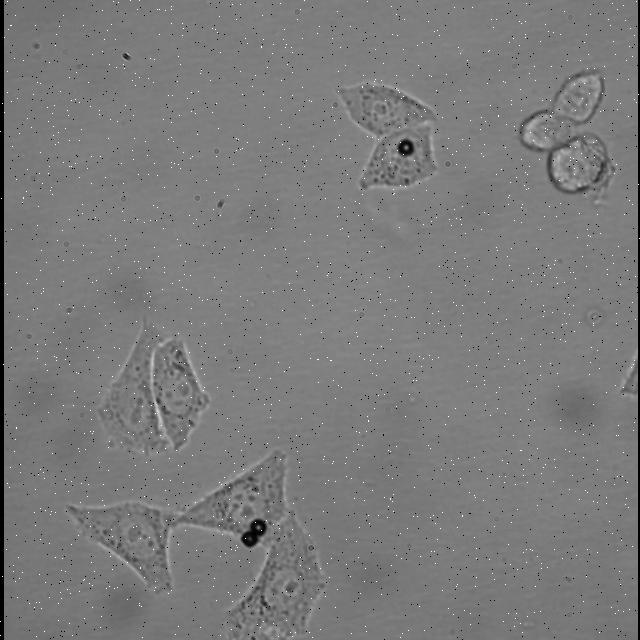microbeads: (396, 134, 418, 158), (238, 530, 260, 552), (249, 513, 269, 533)
